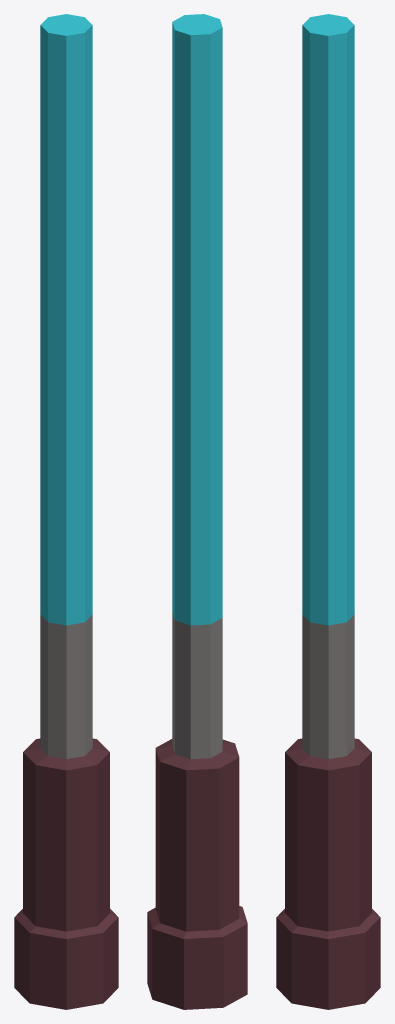
File: scifi-lamp-medium.fbx
3 views of the same model, side by side, from view 1: azimuth 90°, elevation 25°; view 2: azimuth 210°, elevation 25°; view 3: azimuth 270°, elevation 25° (orthographic).
Parts seen in each view (by area): view 1: scifi-lamp-medium; view 2: scifi-lamp-medium; view 3: scifi-lamp-medium.
Part boxes in pixels (<box>): scifi-lamp-medium: <box>14,14,118,1009</box>; scifi-lamp-medium: <box>147,14,247,1009</box>; scifi-lamp-medium: <box>276,14,380,1009</box>.
Size of the model in its own units: 0.24 by 2.45 by 0.24.
